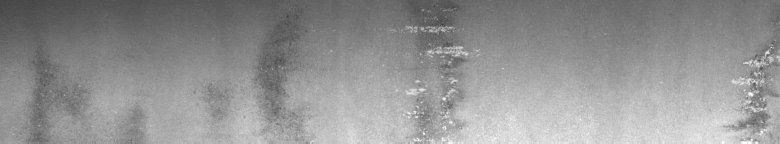hc: (724, 40, 776, 136)
